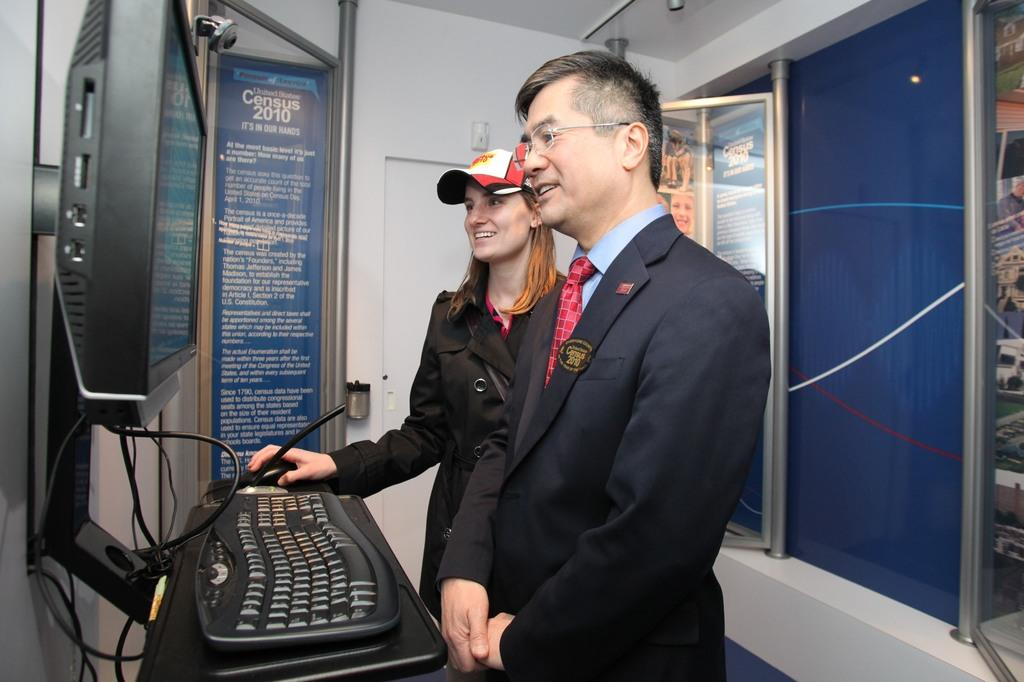no_helmet: (481, 121, 685, 276), (410, 200, 578, 306)
none: (515, 262, 770, 491), (418, 297, 524, 468)
